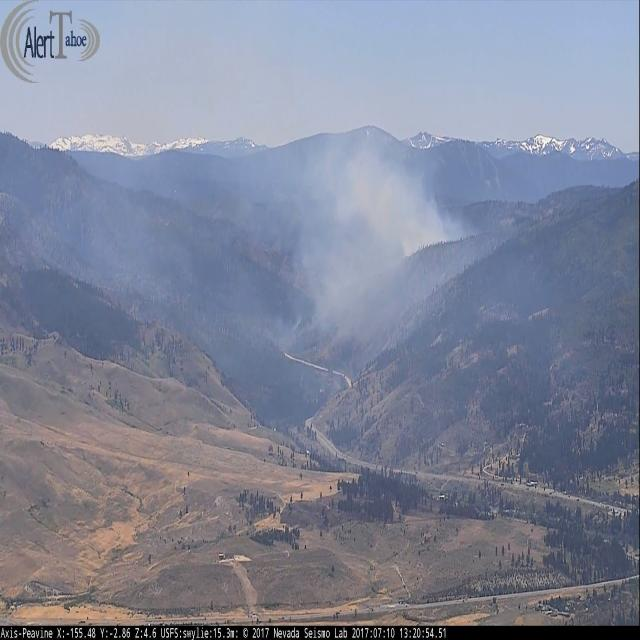smoke: (300, 143, 477, 337)
